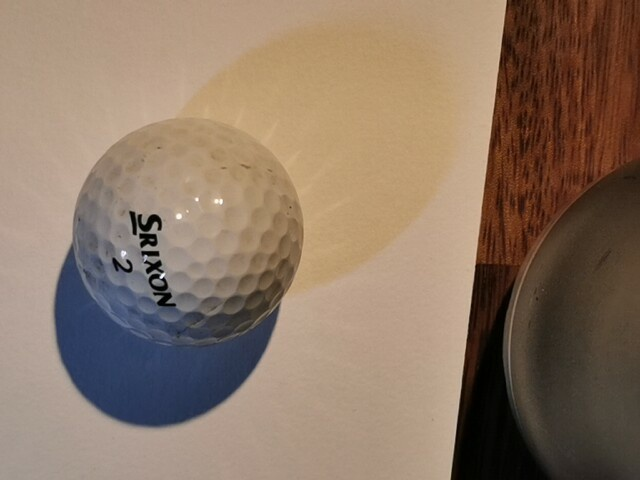Ball: (72, 116, 304, 347)
Srixon: (129, 210, 177, 307)
